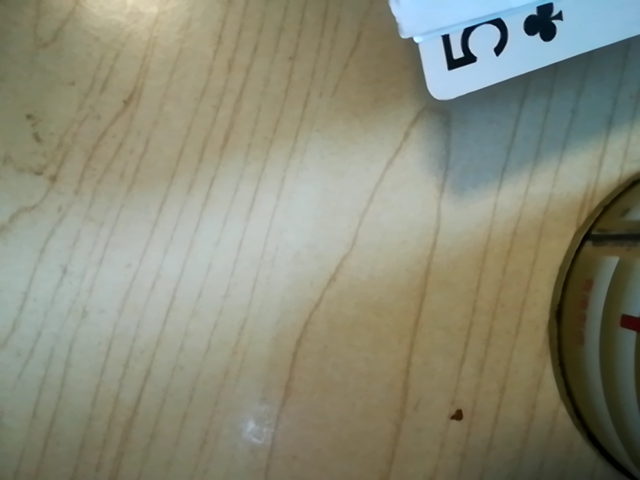mh 5: (425, 0, 581, 86)
